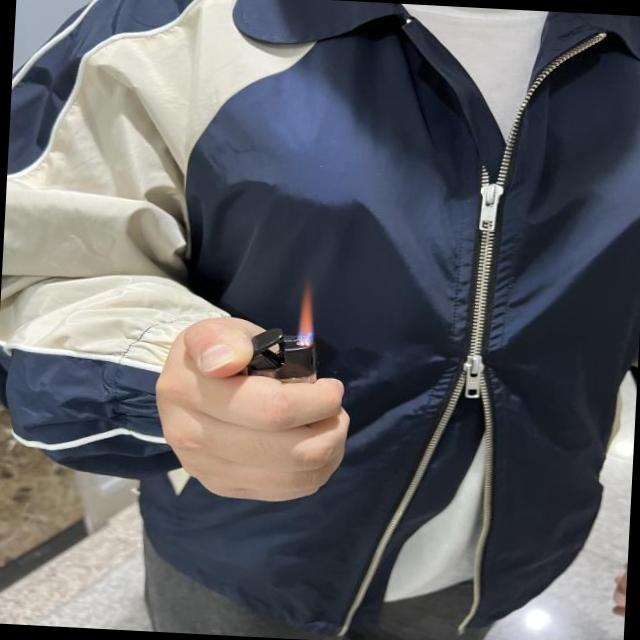Fire: (297, 284, 315, 343)
